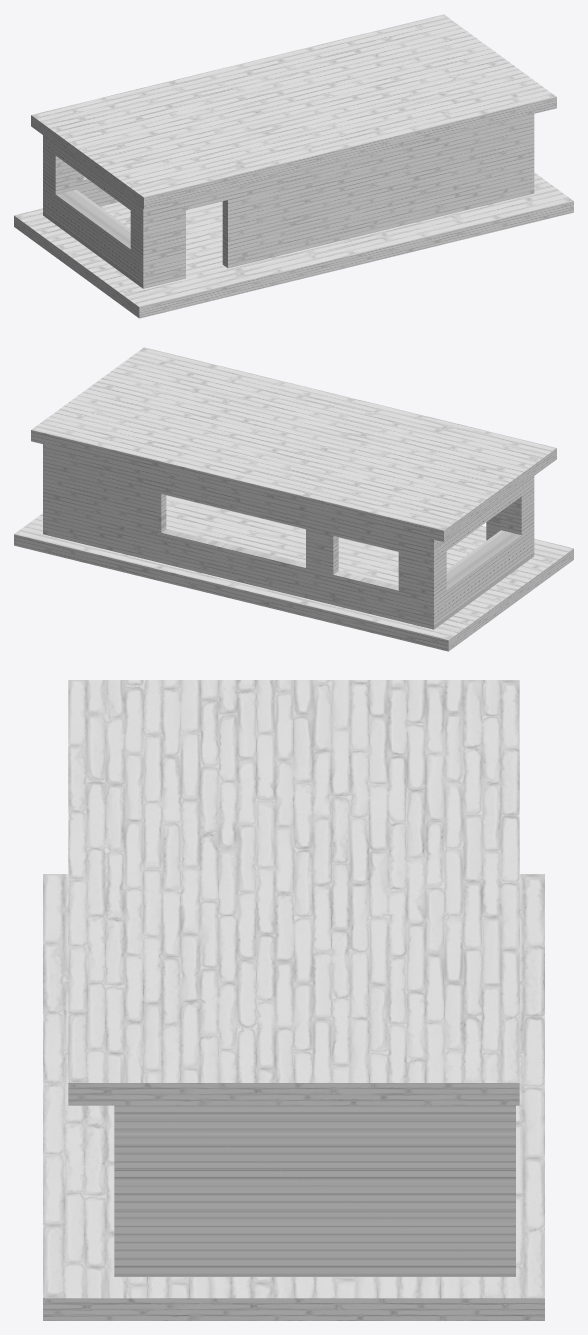
Rendered from Casa 2-4.fbx.
The picture shows the model from 3 angles, top to bottom: view 1: azimuth 30°, elevation 25°; view 2: azimuth 150°, elevation 25°; view 3: azimuth 270°, elevation 25°; orthographic projection. The views are drawn at different scales.
Parts seen in each view (by area): view 1: Suelo.009, Predes2.003, Suelo.008; view 2: Suelo.009, Predes2.003, Suelo.008; view 3: Suelo.009, Predes2.003, Suelo.008.
Part boxes in pixels (x1,y1,x2,y2): Suelo.009: [31, 14, 556, 208]; Predes2.003: [43, 114, 534, 288]; Suelo.008: [14, 172, 573, 318]; Suelo.009: [31, 347, 556, 541]; Predes2.003: [43, 444, 534, 629]; Suelo.008: [14, 495, 573, 651]; Suelo.009: [68, 680, 519, 1105]; Predes2.003: [114, 1105, 515, 1276]; Suelo.008: [43, 874, 544, 1320].
Size of the model in its own units: 2000 by 500 by 1000.
